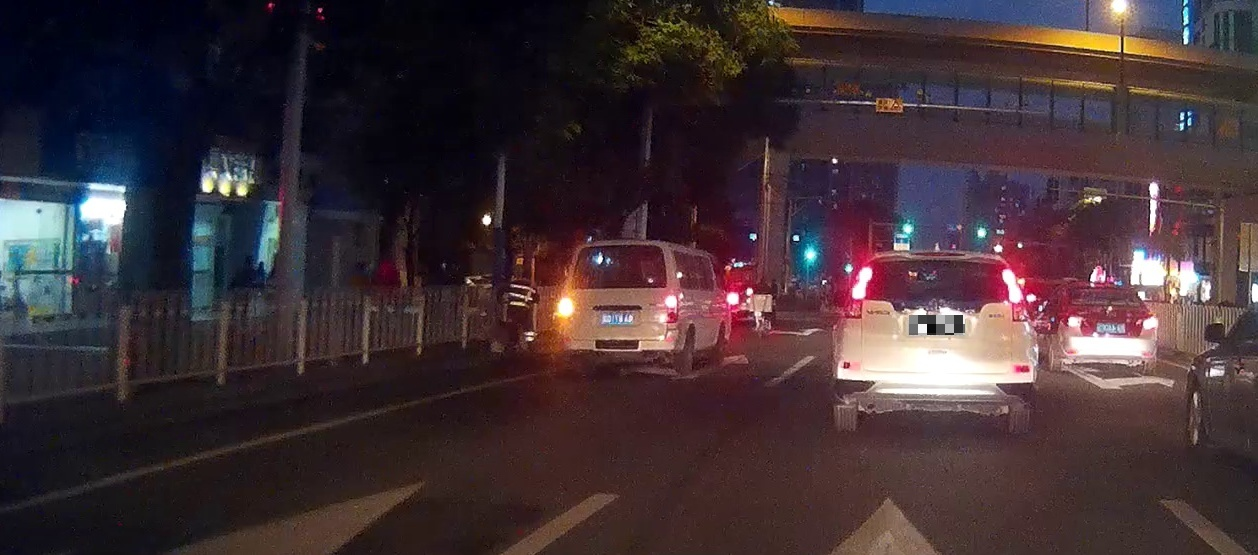L_light: (844, 266, 872, 319), (558, 293, 574, 322), (1066, 314, 1083, 328)
R_light: (1001, 267, 1031, 321), (664, 294, 678, 323), (1142, 315, 1156, 329)
T_light: (920, 259, 949, 267), (610, 245, 630, 252), (1096, 287, 1111, 293)
night-left: (558, 239, 678, 374)
night-no: (834, 249, 1038, 432), (1065, 282, 1158, 372)
plate_1: (909, 315, 965, 335)
